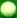white: (0, 0, 17, 18)
